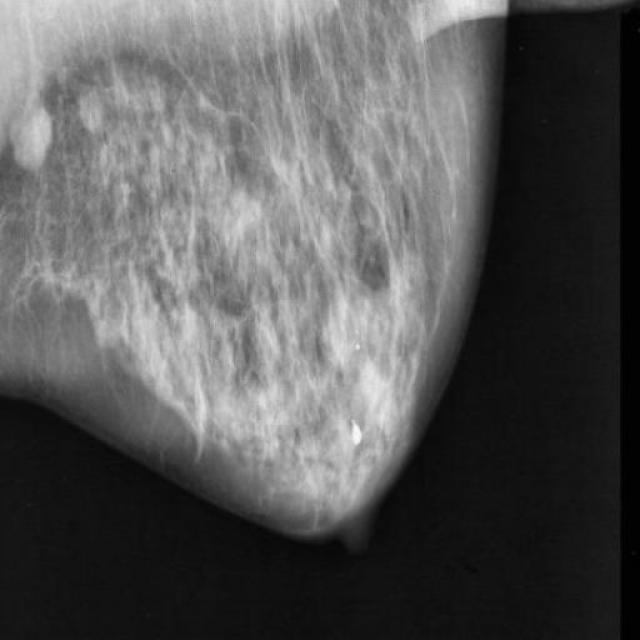cancer: (3, 100, 71, 196)
